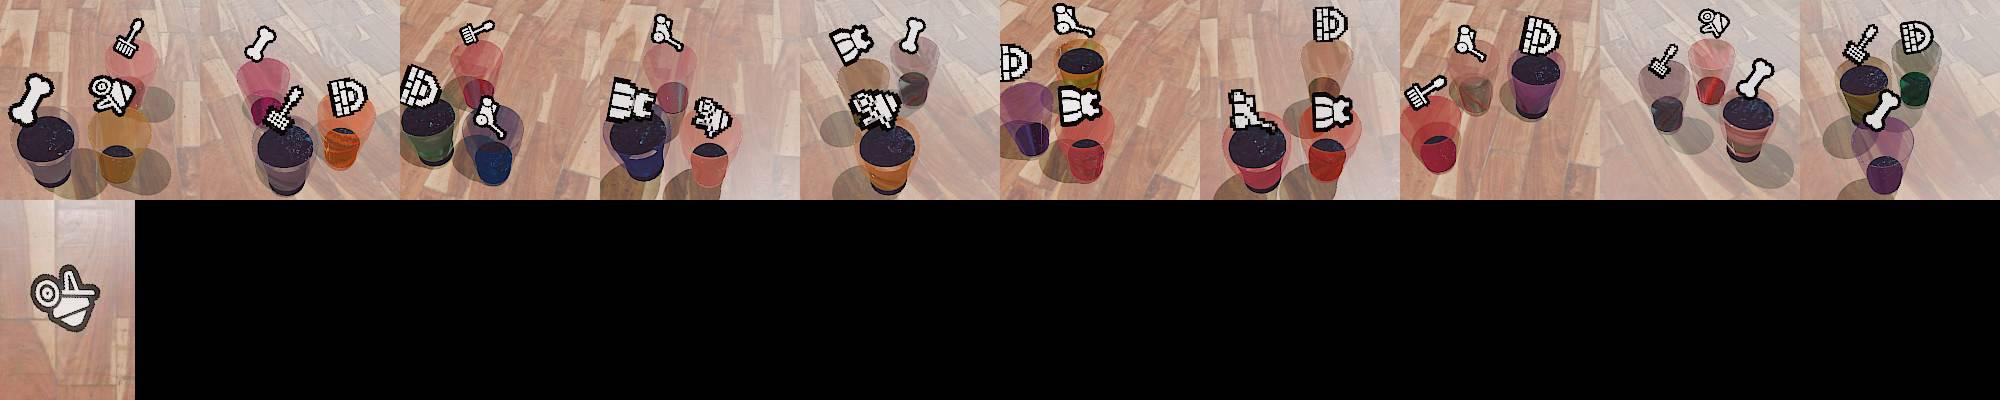icon: (31, 262, 103, 332), (605, 74, 659, 122), (8, 73, 55, 126), (849, 88, 903, 130), (263, 83, 305, 132), (828, 23, 874, 68), (89, 74, 135, 117), (1056, 84, 1103, 126), (689, 96, 733, 139), (1518, 14, 1561, 59), (1310, 89, 1356, 131), (399, 64, 439, 110), (327, 76, 369, 118), (1404, 73, 1450, 111), (1735, 56, 1774, 99), (1228, 88, 1267, 131), (1864, 88, 1902, 131), (1051, 1, 1096, 38), (1843, 23, 1880, 66), (112, 18, 147, 61), (474, 93, 508, 136), (1312, 5, 1349, 43), (651, 13, 685, 54), (1454, 23, 1489, 64), (1000, 43, 1033, 84), (244, 25, 278, 64), (1647, 42, 1679, 80), (1899, 20, 1932, 55), (898, 17, 927, 55), (1698, 8, 1730, 38), (460, 19, 495, 47)
